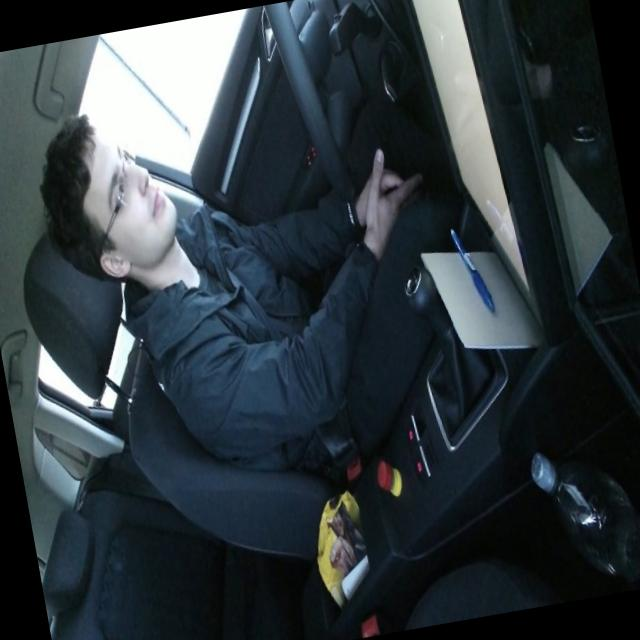pen: (448, 220, 496, 318)
